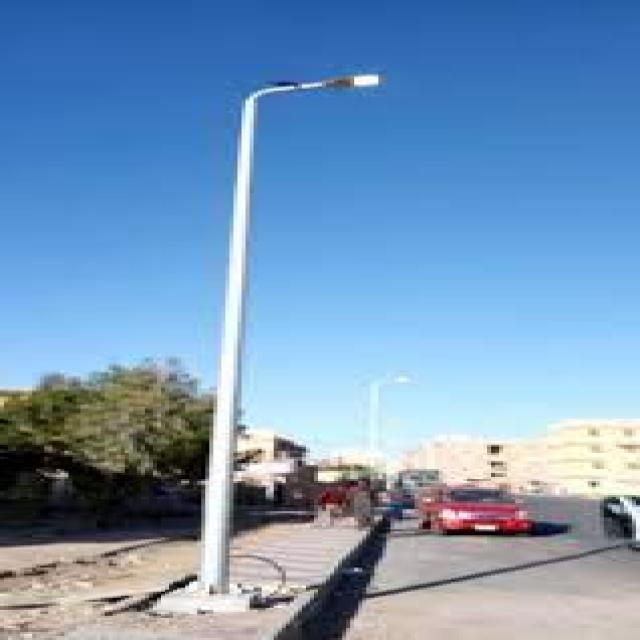Street Light: (194, 72, 382, 594)
